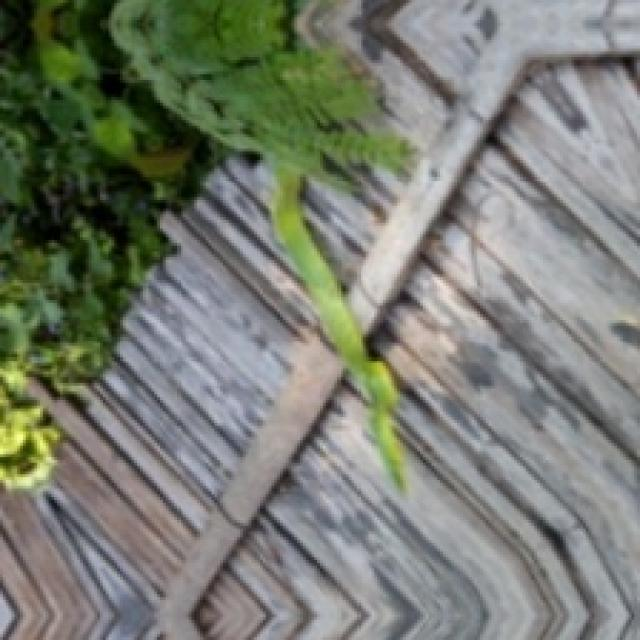red-tailed green ratsnake: (271, 166, 406, 491)
